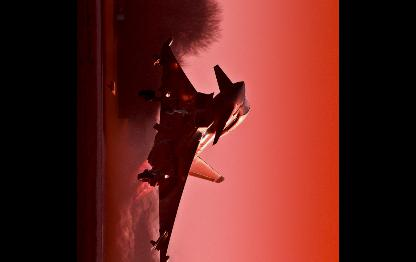E2: (137, 36, 251, 261)
